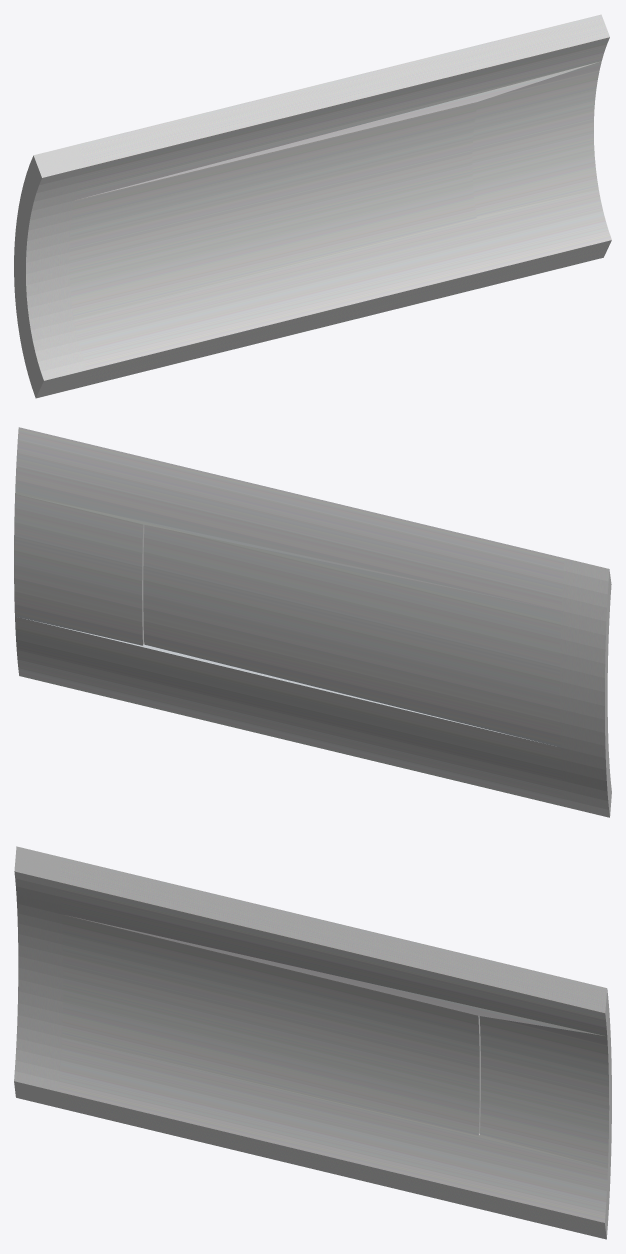
File: rightwall.fbx
The picture shows the model from 3 angles, top to bottom: view 1: azimuth 30°, elevation 25°; view 2: azimuth 150°, elevation 25°; view 3: azimuth 330°, elevation 25°; orthographic projection. The views are drawn at different scales.
Parts seen in each view (by area): view 1: pasted__pasted__polySurface1; view 2: pasted__pasted__polySurface1; view 3: pasted__pasted__polySurface1.
Boxes of the visible parts, x1=… form: pasted__pasted__polySurface1: x1=14, y1=14, x2=611, y2=398; pasted__pasted__polySurface1: x1=14, y1=427, x2=611, y2=817; pasted__pasted__polySurface1: x1=14, y1=846, x2=611, y2=1239.
Size of the model in its own units: 17.34 by 6.9 by 1.07.
